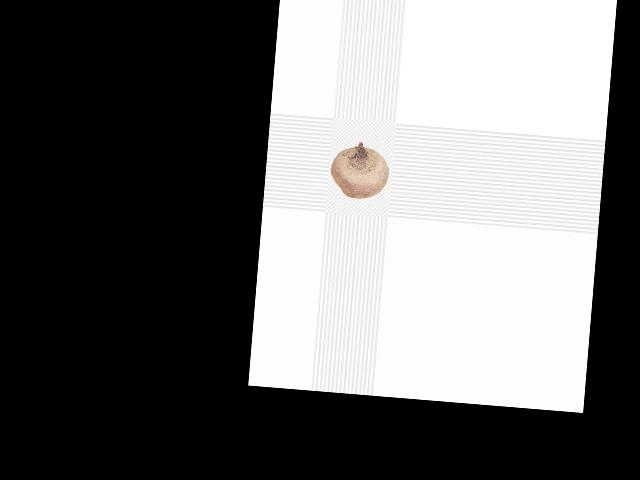beet: (328, 139, 390, 200)
